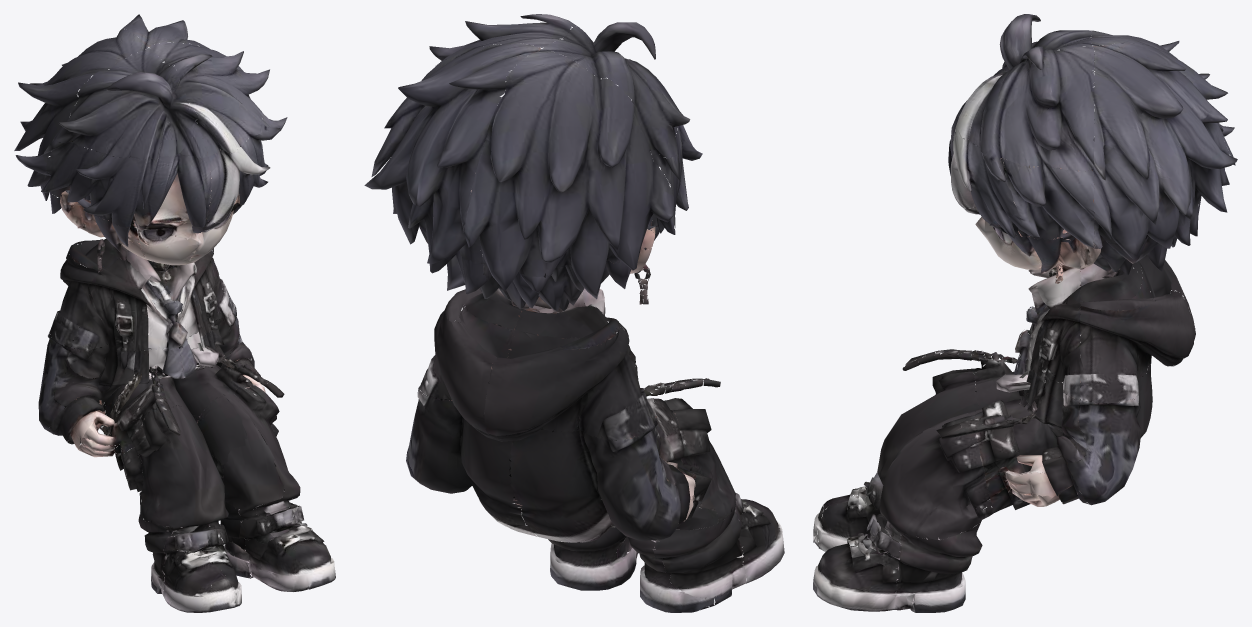
File: studio-visitor-noir-v3.glb
The picture shows the model from 3 angles, left to right: view 1: azimuth 30°, elevation 25°; view 2: azimuth 150°, elevation 25°; view 3: azimuth 270°, elevation 25°; orthographic projection. The views are drawn at different scales.
Parts seen in each view (by area): view 1: noir_continuous_body; view 2: noir_continuous_body; view 3: noir_continuous_body.
Part boxes in pixels (<box>): noir_continuous_body: <box>14,14,335,612</box>; noir_continuous_body: <box>364,14,784,612</box>; noir_continuous_body: <box>813,14,1237,612</box>.
Bounding box in the file's own units: 0.5646 × 1.11 × 0.7901.
Materials: 5 (5 with a texture image).
